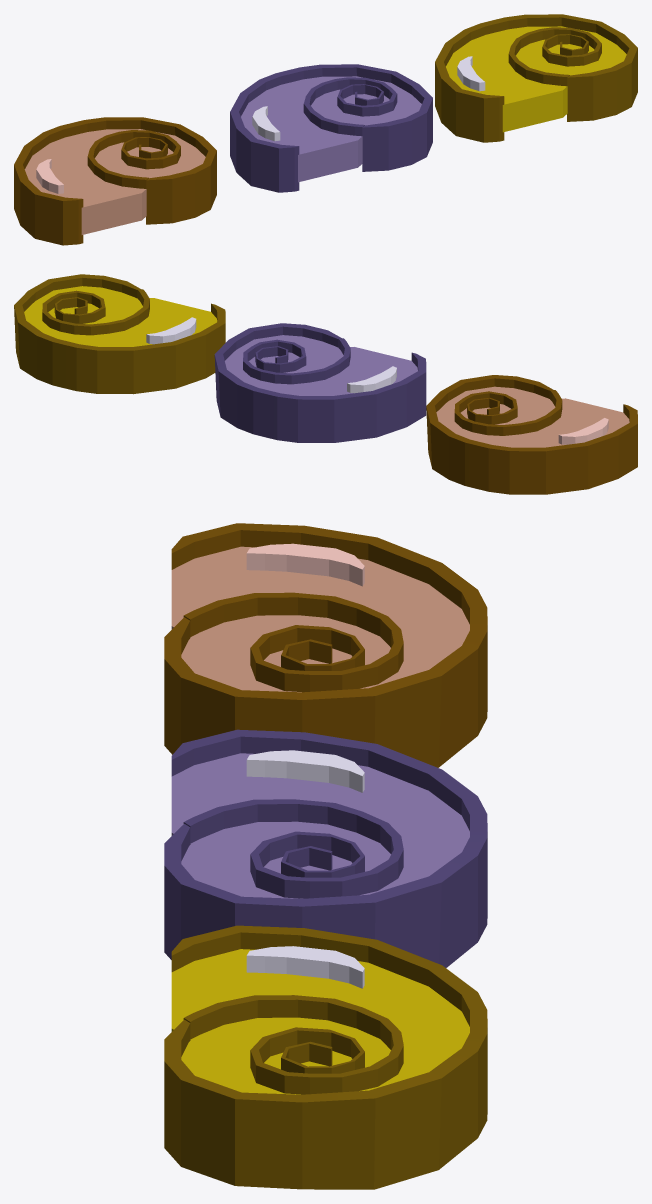
The model's file is woniuke.fbx.
3 renders of one model, top to bottom at view 1: azimuth 30°, elevation 25°; view 2: azimuth 150°, elevation 25°; view 3: azimuth 270°, elevation 25°, orthographic. The views are drawn at different scales.
Visible parts, largest first — view 1: polySurface8, pCube8, polySurface7; view 2: pCube8, polySurface7, polySurface8; view 3: polySurface8, polySurface7, pCube8.
Part boxes in pixels (x1=…): polySurface8: x1=435, y1=14, x2=637, y2=142; pCube8: x1=230, y1=64, x2=432, y2=192; polySurface7: x1=14, y1=117, x2=216, y2=245; pCube8: x1=214, y1=323, x2=426, y2=442; polySurface7: x1=426, y1=375, x2=637, y2=494; polySurface8: x1=14, y1=274, x2=225, y2=394; polySurface8: x1=164, y1=925, x2=487, y2=1189; polySurface7: x1=164, y1=523, x2=487, y2=767; pCube8: x1=164, y1=729, x2=487, y2=967.
Bounding box in the file's own units: 23.12 × 1.98 × 5.45.
